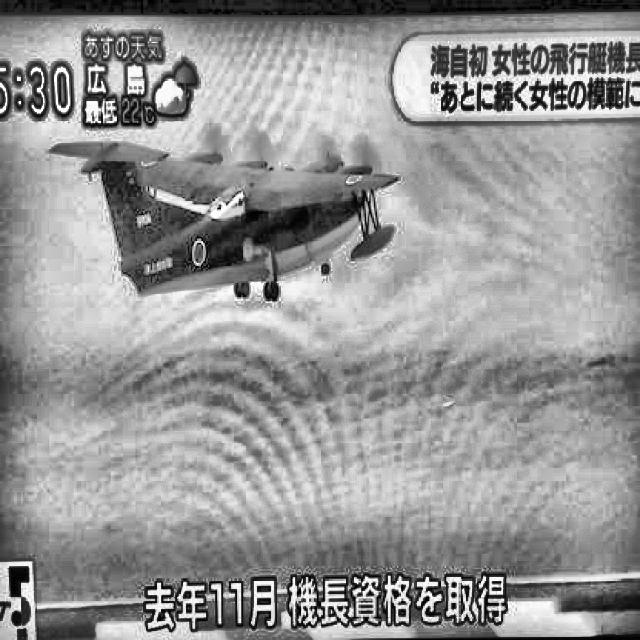US2: (48, 125, 401, 301)
